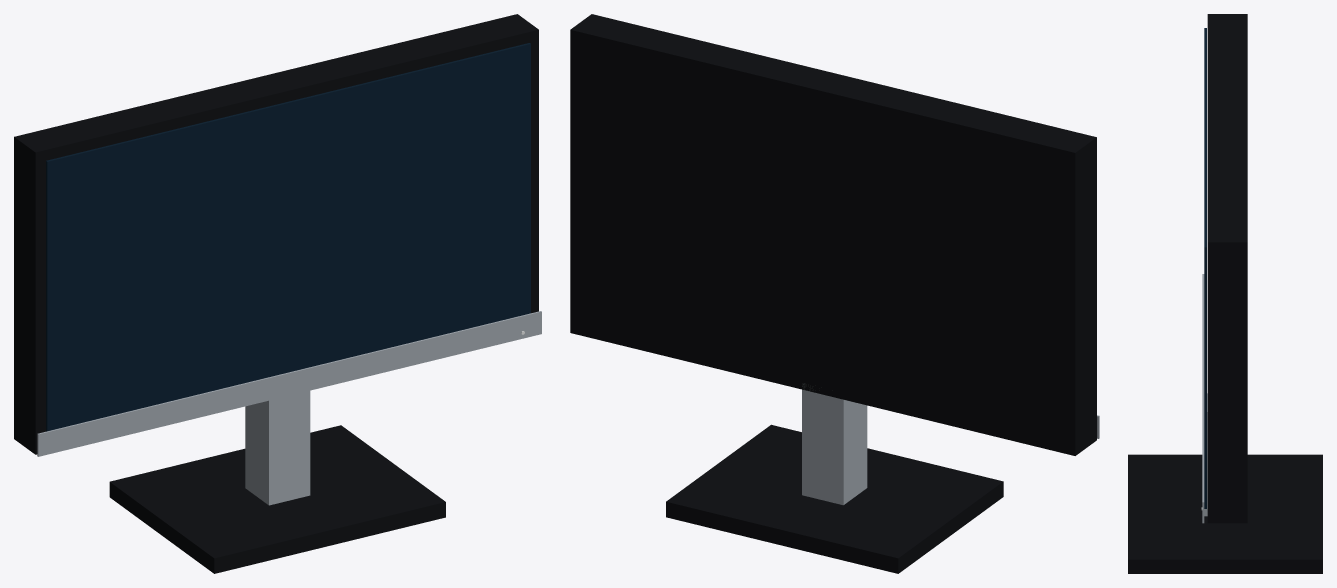
Rendered from Monitor_27.obj.
3 views of the same model, side by side, from view 1: azimuth 30°, elevation 25°; view 2: azimuth 150°, elevation 25°; view 3: azimuth 270°, elevation 25° (orthographic). The views are drawn at different scales.
Bounding box in the file's own units: 0.61 × 0.49 × 0.22.
